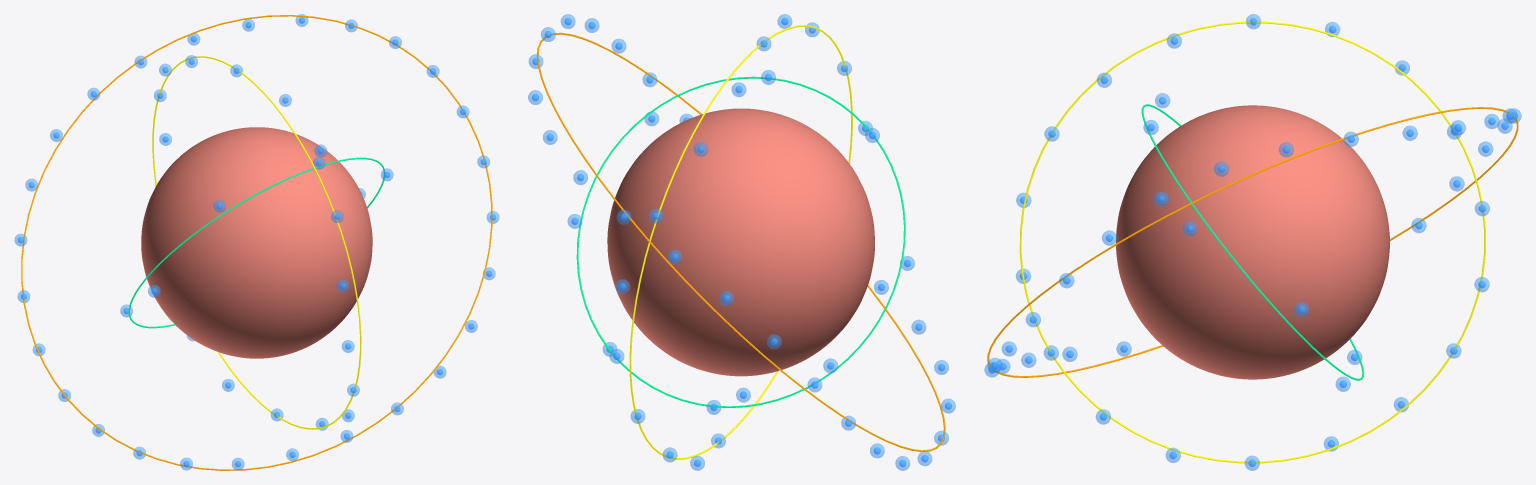
The picture shows the model from 3 angles, left to right: view 1: azimuth 30°, elevation 25°; view 2: azimuth 150°, elevation 25°; view 3: azimuth 270°, elevation 25°; orthographic projection. The views are drawn at different scales.
Parts seen in each view (by area): view 1: Cs, object 61, object 24, object 7; view 2: Cs, object 7, object 61, object 24; view 3: Cs, object 24, object 61, object 7.
Boxes of the visible parts, <box> form: Cs: <box>141,127,372,358</box>; object 61: <box>21,15,492,470</box>; object 24: <box>152,56,361,429</box>; object 7: <box>128,157,385,328</box>; Cs: <box>607,108,874,376</box>; object 7: <box>576,76,905,407</box>; object 61: <box>536,32,945,451</box>; object 24: <box>629,25,852,459</box>; Cs: <box>1116,105,1389,379</box>; object 24: <box>1019,21,1485,463</box>; object 61: <box>987,107,1518,377</box>; object 7: <box>1141,104,1364,380</box>.
Size of the model in its own units: 4.96 by 4.93 by 5.55.
